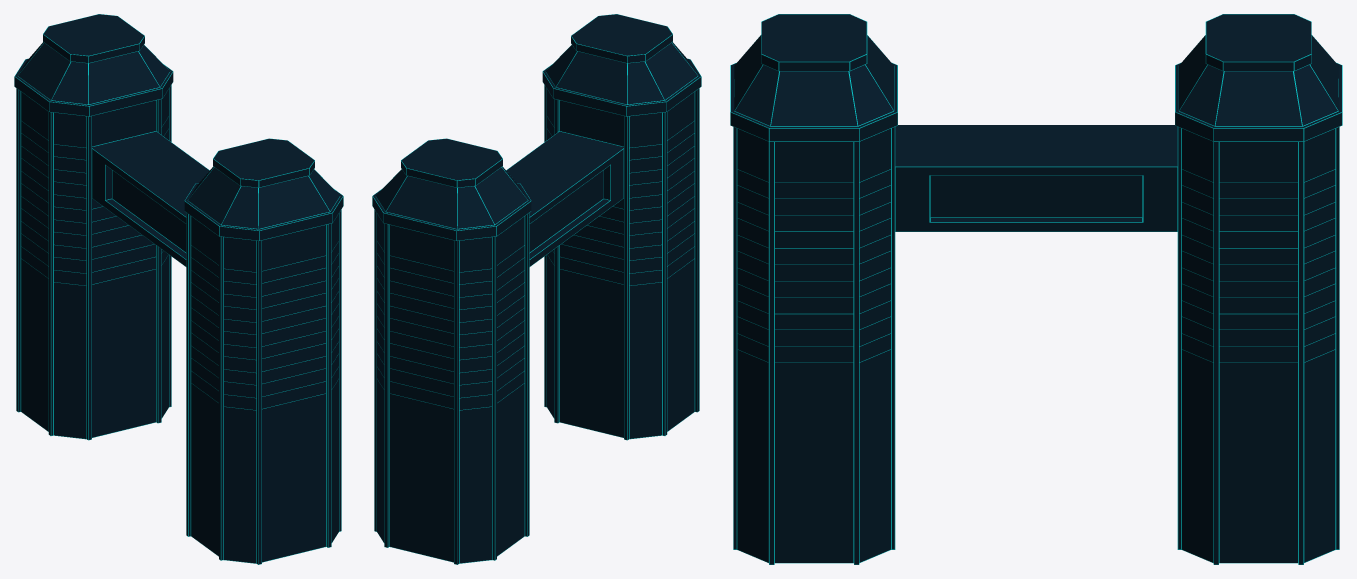
3 views of the same model, side by side, from view 1: azimuth 30°, elevation 25°; view 2: azimuth 150°, elevation 25°; view 3: azimuth 270°, elevation 25° (orthographic). The views are drawn at different scales.
Visible parts, largest first — view 1: BuildingB02; view 2: BuildingB02; view 3: BuildingB02.
Boxes of the visible parts, x1,y1,x2,y2 form: BuildingB02: [14, 14, 343, 564]; BuildingB02: [372, 14, 701, 564]; BuildingB02: [730, 14, 1342, 564].
Bounding box in the file's own units: 64.91 × 186 × 212.
Materials: 1 (1 with a texture image).
